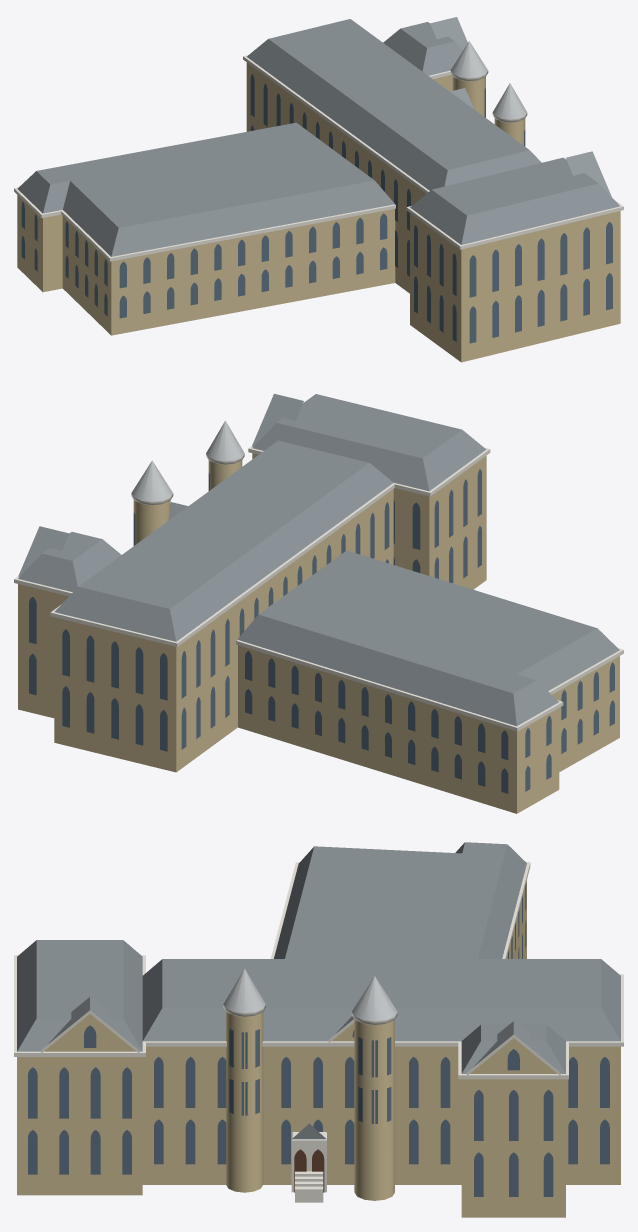
The model's file is sat-our-lady-of-the-lake.glb.
The picture shows the model from 3 angles, top to bottom: view 1: azimuth 30°, elevation 25°; view 2: azimuth 150°, elevation 25°; view 3: azimuth 270°, elevation 25°; orthographic projection. The views are drawn at different scales.
Parts seen in each view (by area): view 1: Our Lady of the Lake University Main Building; view 2: Our Lady of the Lake University Main Building; view 3: Our Lady of the Lake University Main Building.
Part boxes in pixels (left/top/right/bottom): Our Lady of the Lake University Main Building: left=14, top=17, right=623, bottom=362; Our Lady of the Lake University Main Building: left=14, top=393, right=623, bottom=813; Our Lady of the Lake University Main Building: left=14, top=842, right=623, bottom=1217.
Size of the model in its own units: 70.74 by 27 by 68.9.
